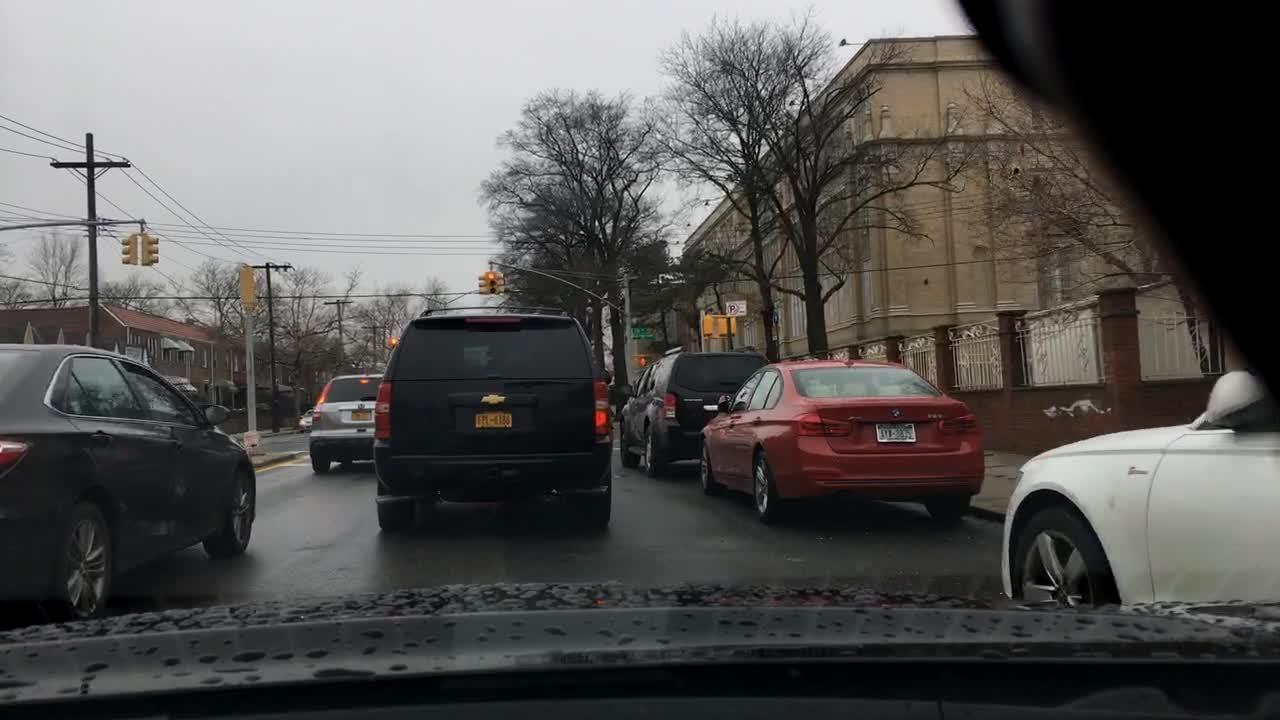bmw: (888, 404, 906, 421)
chevrolet: (463, 390, 518, 409)
